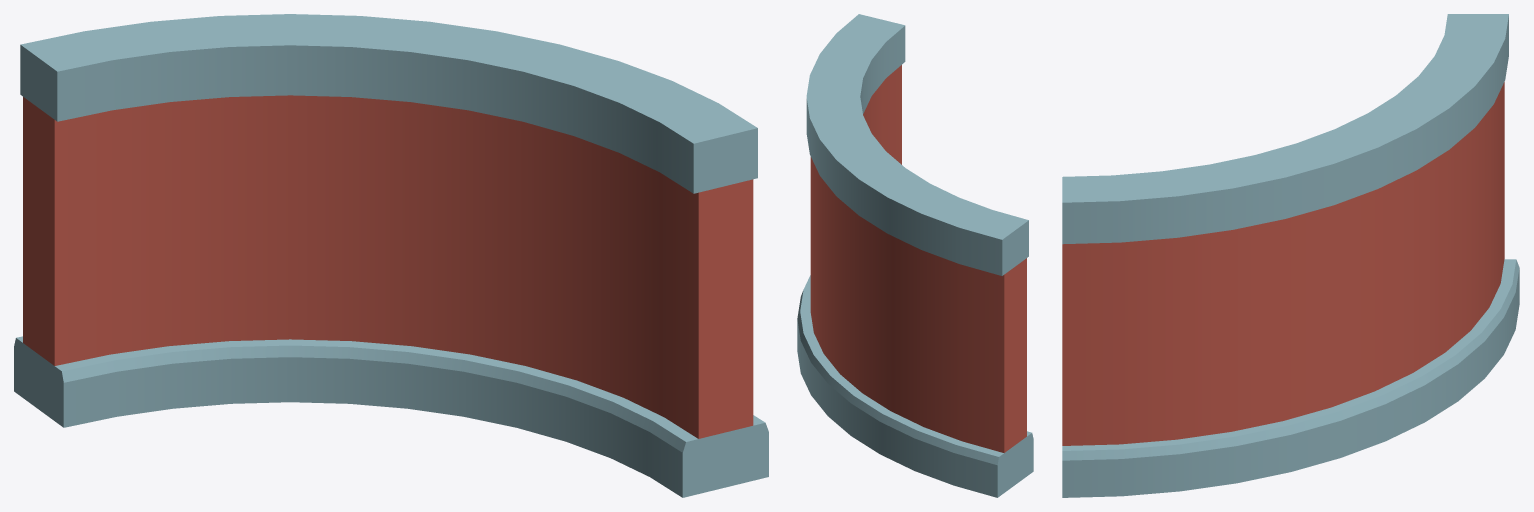
Rendered from brickWallCurve.obj.
3 views of the same model, side by side, from view 1: azimuth 30°, elevation 25°; view 2: azimuth 150°, elevation 25°; view 3: azimuth 270°, elevation 25° (orthographic). The views are drawn at different scales.
Parts seen in each view (by area): view 1: brickWallCurve; view 2: brickWallCurve; view 3: brickWallCurve.
Part boxes in pixels (left/top/right/bottom): brickWallCurve: left=14, top=14, right=768, bottom=497; brickWallCurve: left=797, top=14, right=1033, bottom=497; brickWallCurve: left=1062, top=14, right=1519, bottom=497.
Bounding box in the file's own units: 1 × 0.7019 × 1.
